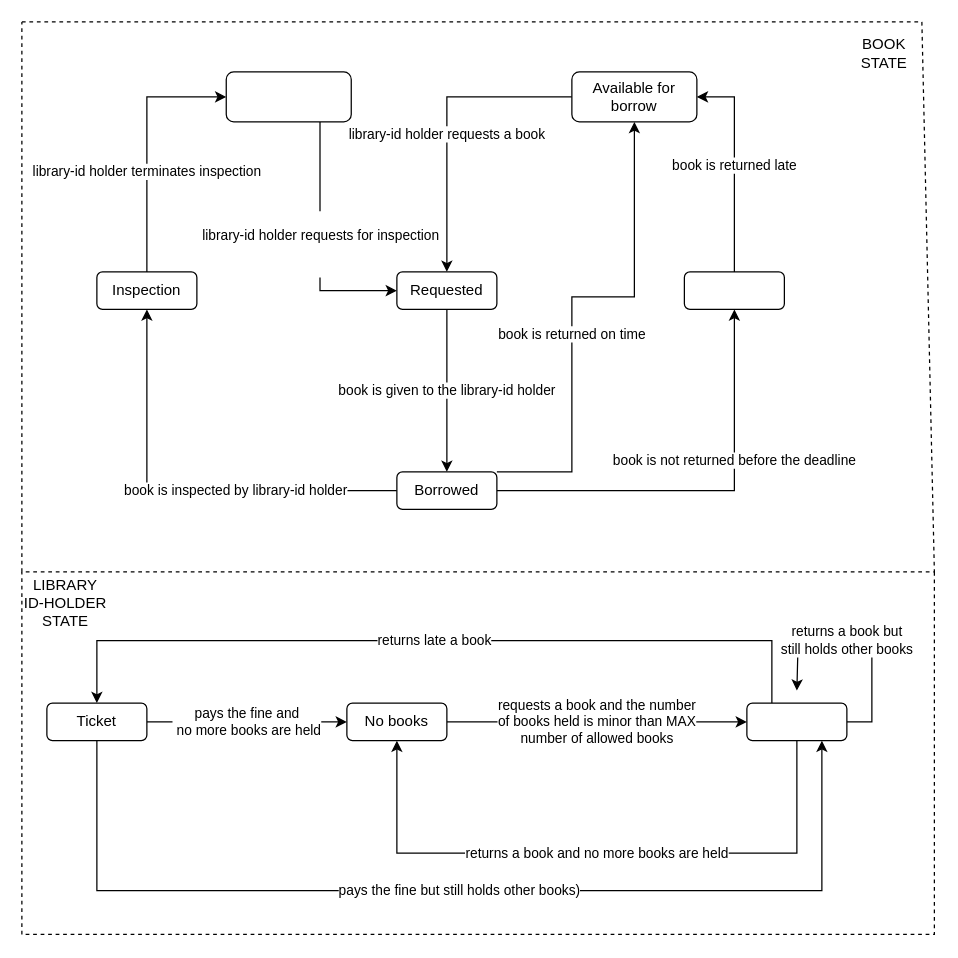
Some shapes in this 958 by 958 pixel diagram are drawn without their labels. The centre of each missing label's shape, as x and y in pixels:
Available for inspection: (288,96)
Has books: (796,721)
Late: (733,290)
